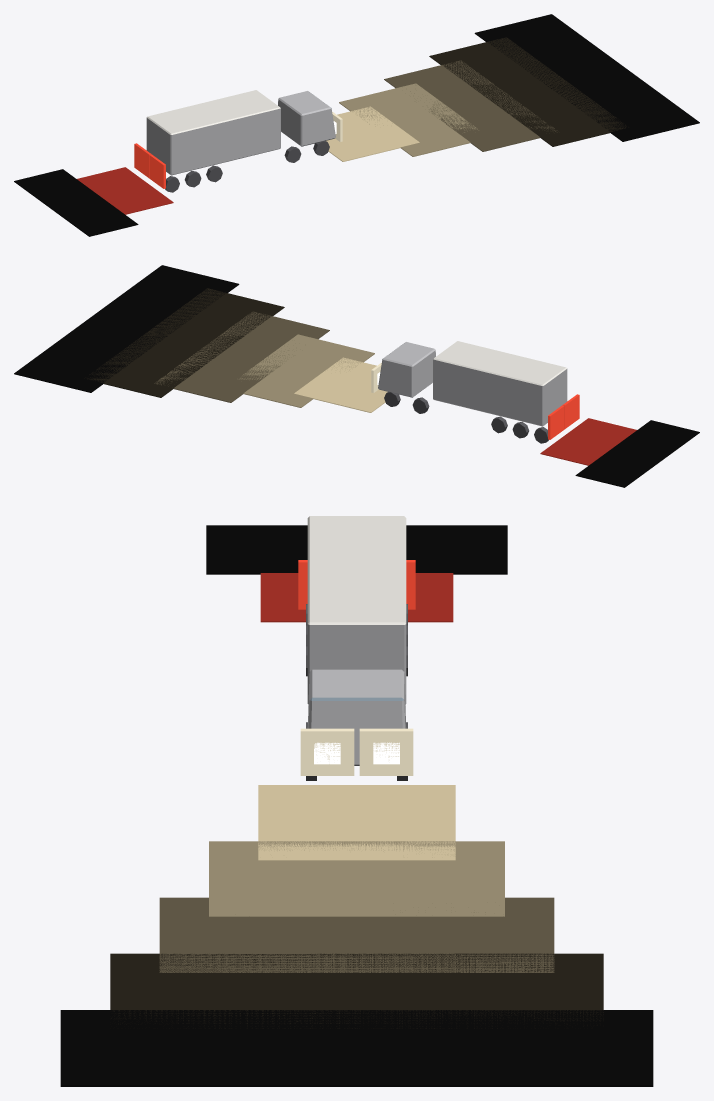
The model's file is veh_artic_box.glb.
3 views of the same model, one above another, from view 1: azimuth 30°, elevation 25°; view 2: azimuth 150°, elevation 25°; view 3: azimuth 270°, elevation 25° (orthographic). The views are drawn at different scales.
Visible parts, largest first — view 1: veh_artic_box; view 2: veh_artic_box; view 3: veh_artic_box.
Boxes of the visible parts, <box> form: veh_artic_box: <box>14,14,699,236</box>; veh_artic_box: <box>14,265,699,487</box>; veh_artic_box: <box>60,516,653,1086</box>.
Size of the model in its own units: 3.09 by 0.301 by 1.38.
